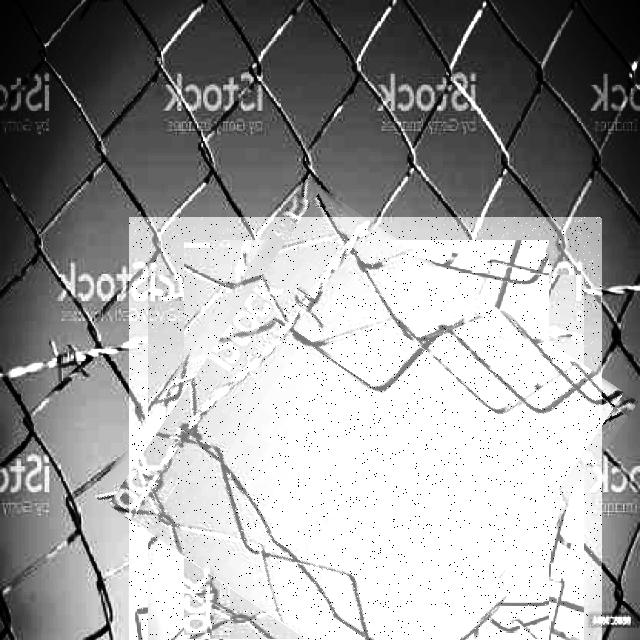anomaly-fence: (129, 217, 602, 640)
